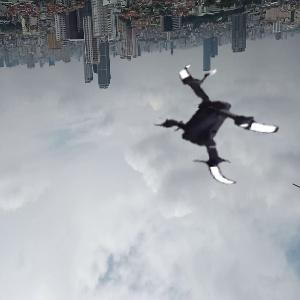drone: (141, 51, 282, 192)
